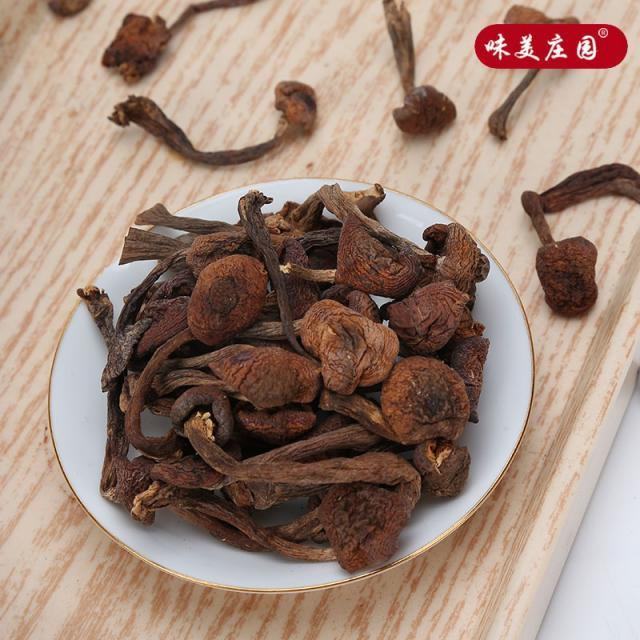Armillaria mellea: (77, 185, 488, 578), (102, 79, 320, 169), (515, 164, 640, 314), (389, 4, 459, 140)
